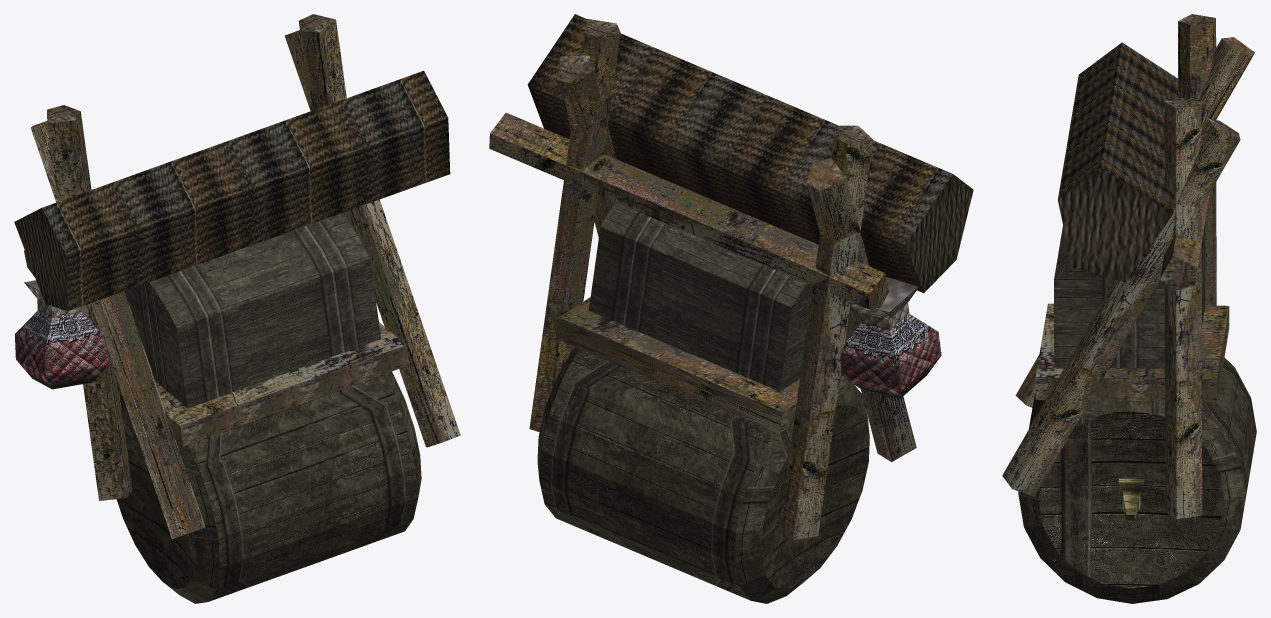
The model's file is STATIC_PLECAK2_FIX.glb.
The picture shows the model from 3 angles, left to right: view 1: azimuth 30°, elevation 25°; view 2: azimuth 150°, elevation 25°; view 3: azimuth 270°, elevation 25°; orthographic projection. The views are drawn at different scales.
Visible parts, largest first — view 1: STATIC_PLECAK2_FIX; view 2: STATIC_PLECAK2_FIX; view 3: STATIC_PLECAK2_FIX.
Part boxes in pixels (<box>): STATIC_PLECAK2_FIX: <box>14,14,460,603</box>; STATIC_PLECAK2_FIX: <box>489,14,973,603</box>; STATIC_PLECAK2_FIX: <box>1002,14,1256,603</box>.
Bounding box in the file's own units: 0.5364 × 0.6579 × 0.2954.
6 materials, 6 textured.
